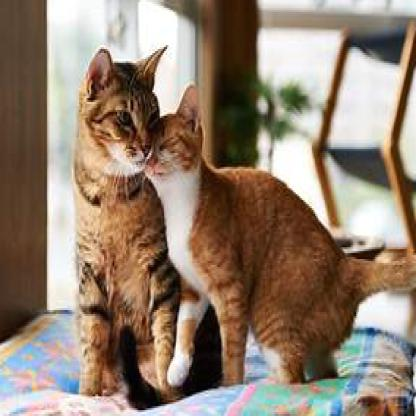cat: (143, 82, 414, 388), (72, 43, 221, 400)
